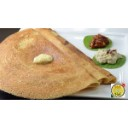dosa: (1, 29, 114, 93)
